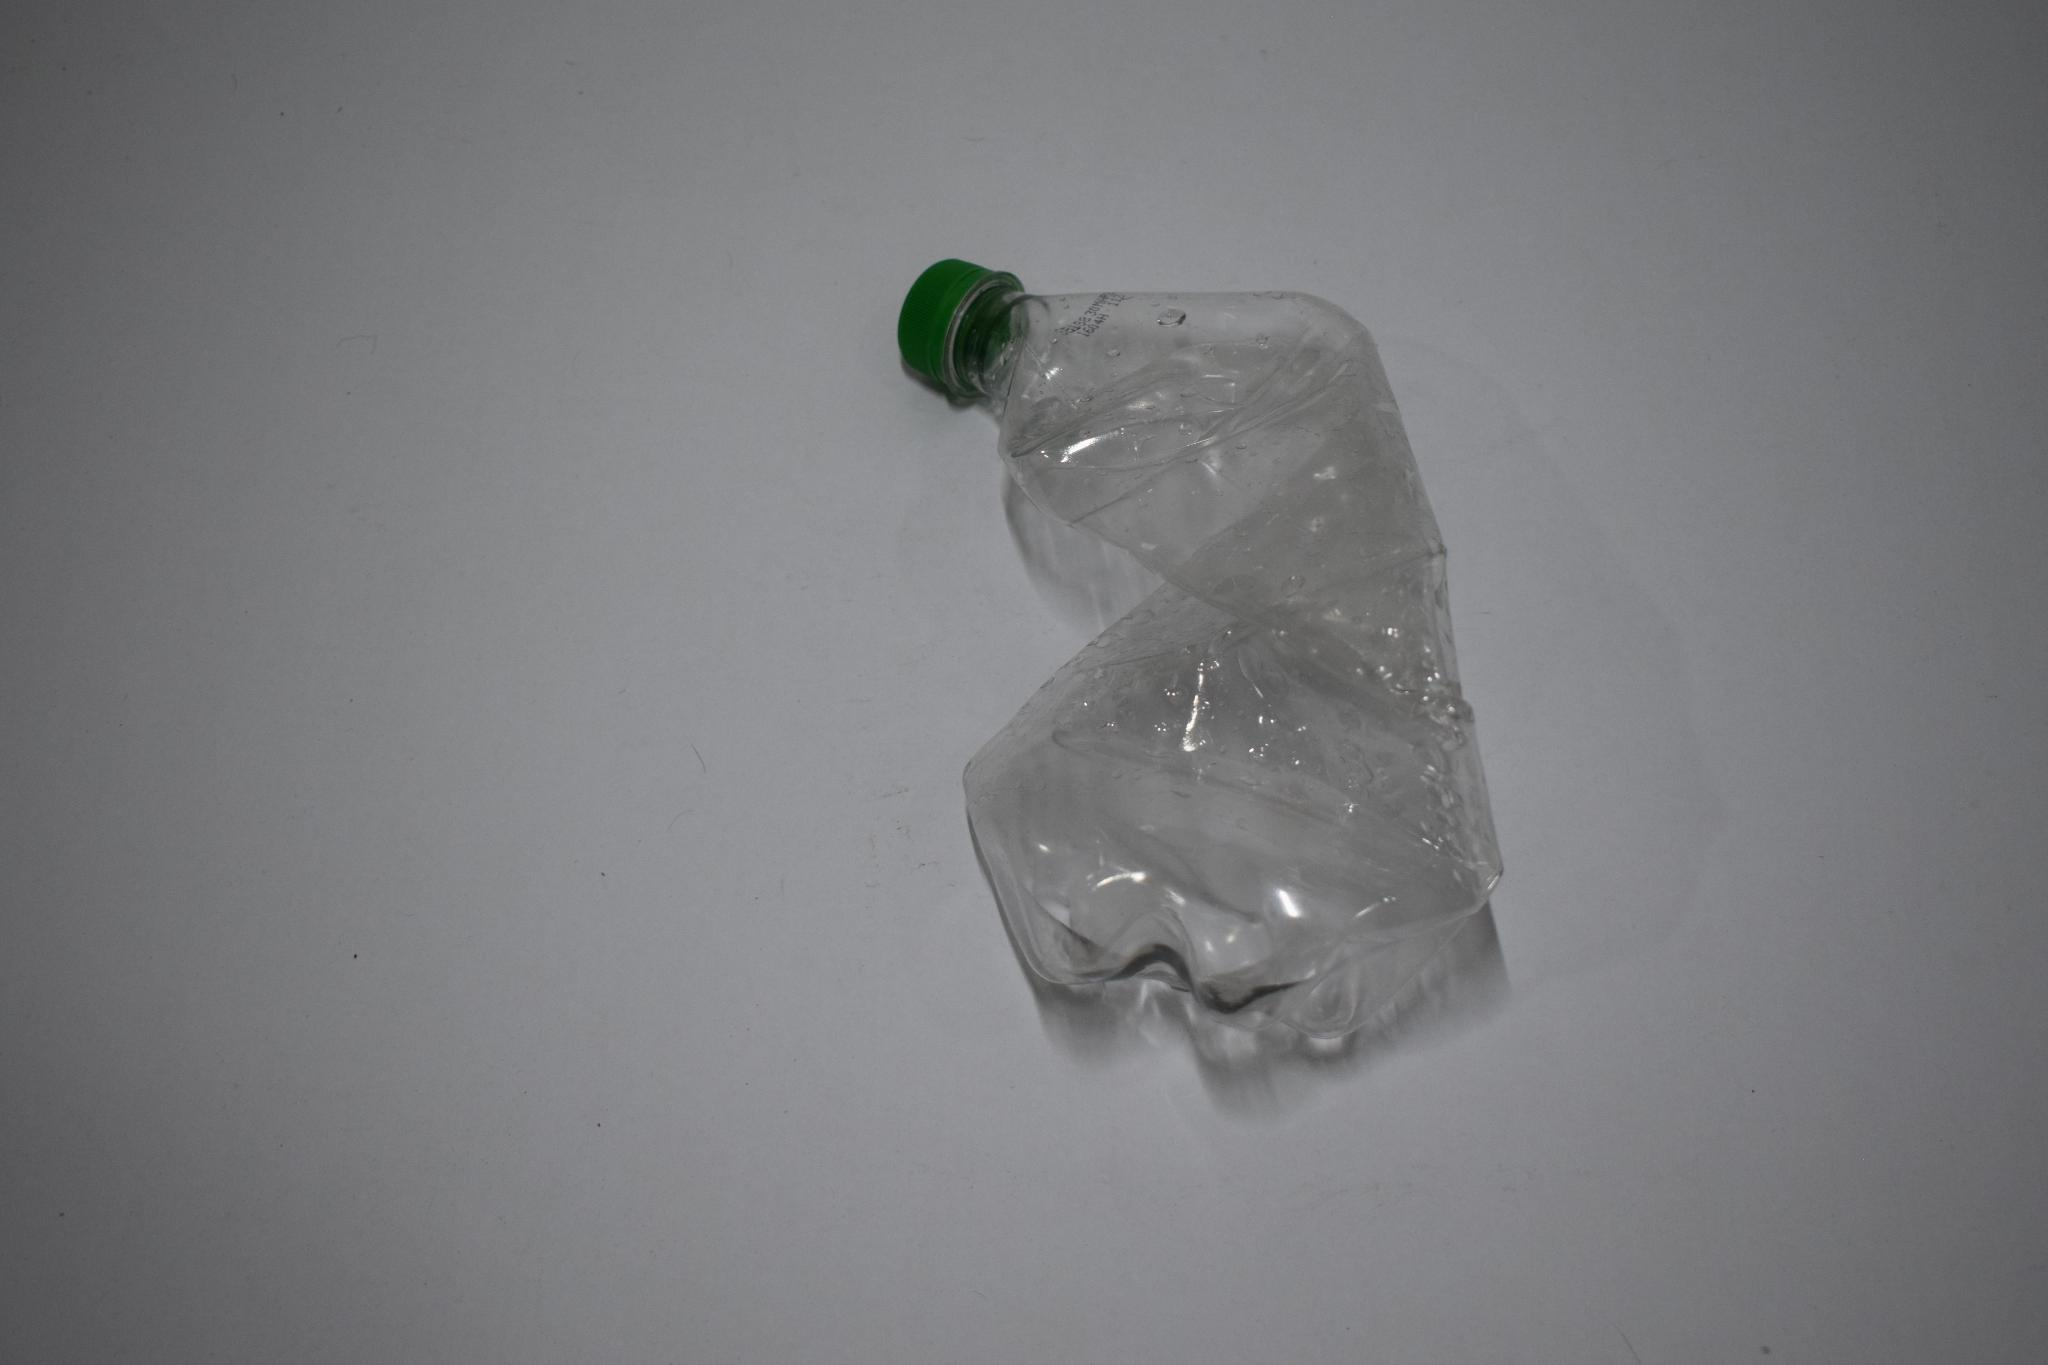bottle: (836, 248, 1587, 1045)
